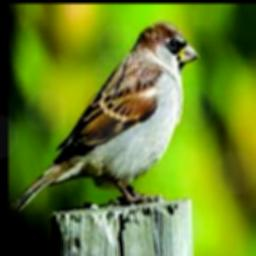Sparrow: (11, 22, 199, 212)
